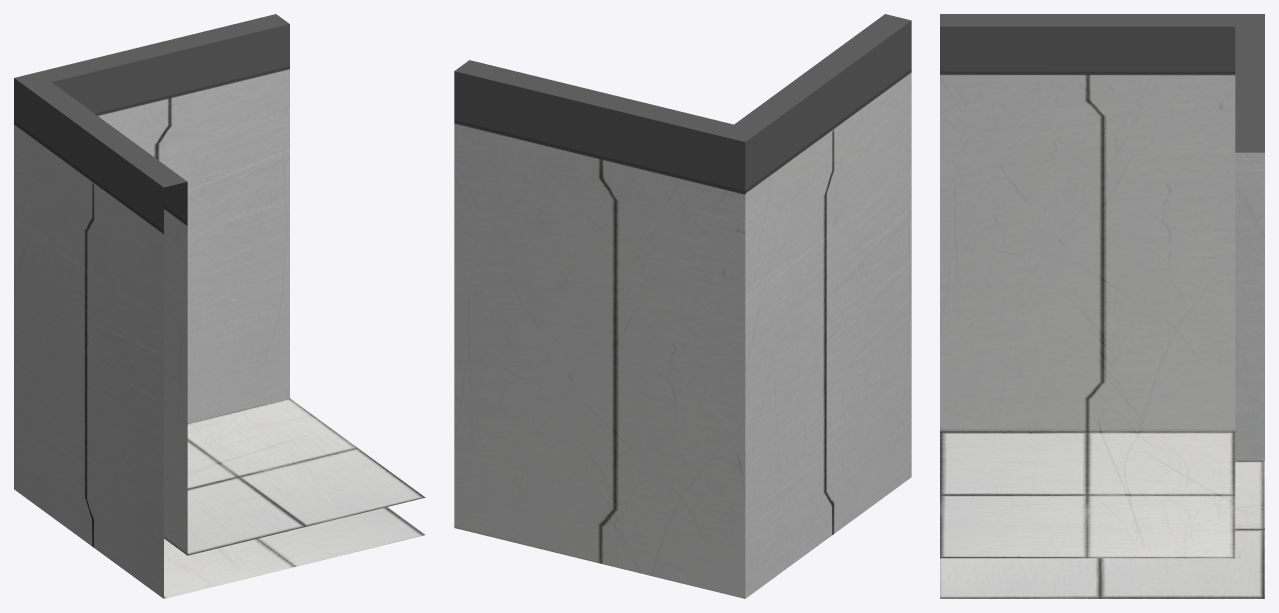
File: Module_001_CornerW.fbx
3 renders of one model, left to right at view 1: azimuth 30°, elevation 25°; view 2: azimuth 150°, elevation 25°; view 3: azimuth 270°, elevation 25°, orthographic. The views are drawn at different scales.
Parts seen in each view (by area): view 1: Module_001_CornerW; view 2: Module_001_CornerW; view 3: Module_001_CornerW.
Part boxes in pixels (<box>): Module_001_CornerW: <box>14,14,425,598</box>; Module_001_CornerW: <box>454,14,911,598</box>; Module_001_CornerW: <box>940,14,1264,598</box>.
Size of the model in its own units: 220 by 330 by 218.
